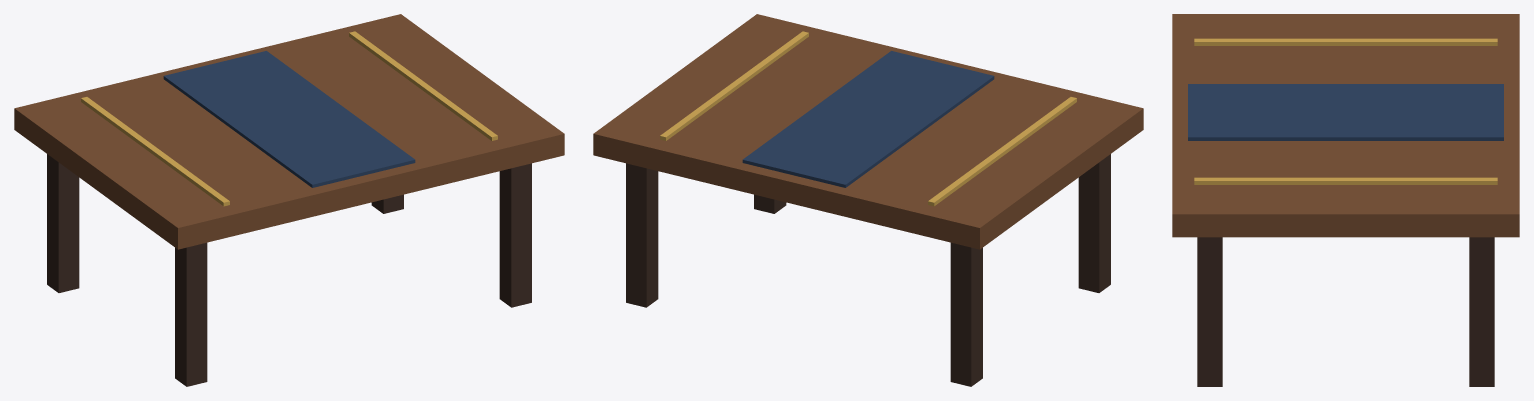
File: hearth_table.glb
3 views of the same model, side by side, from view 1: azimuth 30°, elevation 25°; view 2: azimuth 150°, elevation 25°; view 3: azimuth 270°, elevation 25° (orthographic). The views are drawn at different scales.
Visible parts, largest first — view 1: hearth_table; view 2: hearth_table; view 3: hearth_table.
Boxes of the visible parts, <box> form: hearth_table: <box>14,14,564,386</box>; hearth_table: <box>593,14,1143,386</box>; hearth_table: <box>1172,14,1519,386</box>.
Bounding box in the file's own units: 7.5 × 3.27 × 5.5.
